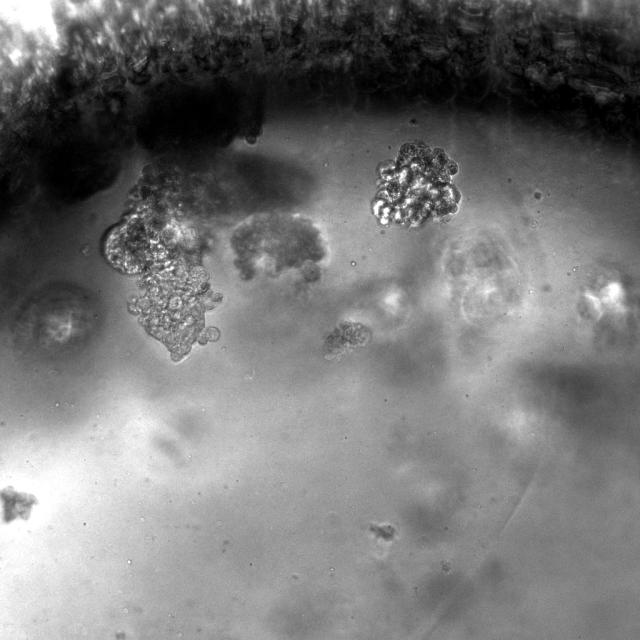organoid: (102, 165, 222, 361), (371, 140, 461, 227), (231, 213, 325, 281), (324, 321, 371, 359), (0, 486, 38, 522)
